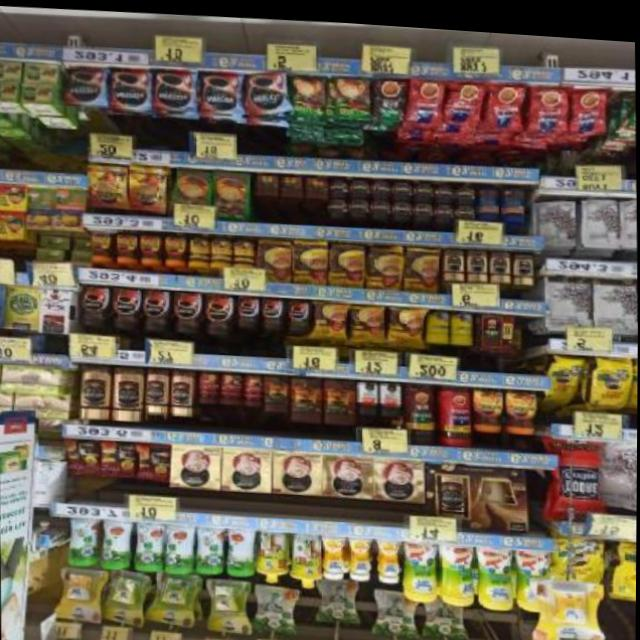Coffee: (152, 64, 199, 109), (199, 66, 243, 112), (127, 161, 167, 210), (244, 67, 288, 109), (88, 161, 127, 206), (66, 65, 108, 105), (111, 66, 151, 107), (114, 364, 143, 420), (81, 363, 110, 419), (505, 381, 538, 427), (473, 380, 503, 425), (203, 290, 235, 329), (112, 285, 141, 326), (173, 289, 202, 328), (143, 287, 171, 327), (82, 284, 109, 325), (145, 366, 168, 411), (170, 367, 192, 413), (260, 294, 284, 326), (489, 244, 512, 275), (287, 296, 310, 326), (235, 293, 258, 323), (467, 243, 488, 274), (444, 242, 465, 273), (514, 246, 535, 276), (164, 233, 186, 261), (90, 230, 111, 258), (140, 232, 160, 261), (115, 231, 135, 259), (455, 181, 477, 198), (368, 177, 391, 193), (352, 194, 371, 213), (329, 194, 349, 212), (434, 179, 455, 196), (370, 195, 390, 212), (413, 178, 433, 195), (413, 197, 432, 214), (393, 177, 412, 194), (330, 175, 351, 190), (434, 199, 452, 216), (352, 175, 369, 192), (392, 198, 411, 213), (455, 200, 473, 211)
